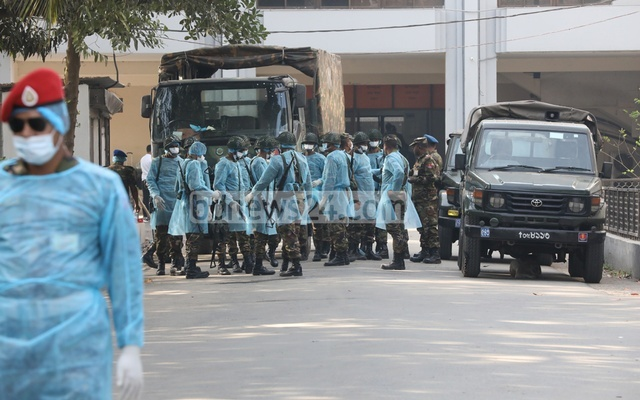army vehicle: (463, 101, 606, 283), (141, 45, 346, 155), (439, 133, 462, 262)
